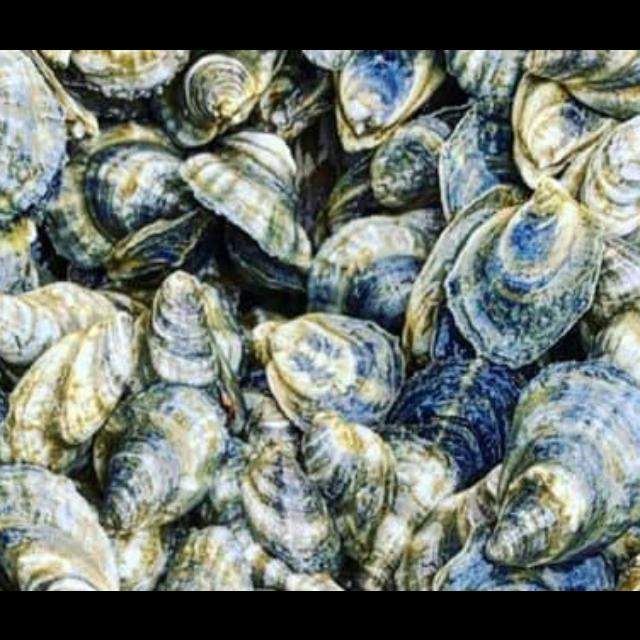Oyster-Closed: (356, 353, 534, 590), (486, 360, 640, 566), (444, 174, 605, 365), (40, 119, 199, 268), (193, 436, 344, 590), (402, 186, 515, 358), (101, 382, 228, 530), (182, 131, 314, 271), (267, 312, 406, 435), (0, 463, 121, 590), (306, 214, 428, 336), (305, 413, 398, 562), (150, 49, 289, 147), (394, 463, 501, 590), (433, 518, 617, 590), (513, 70, 621, 190), (242, 442, 344, 568), (438, 95, 534, 227), (2, 331, 94, 466), (0, 49, 68, 226), (337, 49, 448, 152), (0, 281, 118, 365), (79, 484, 172, 590), (57, 316, 133, 444), (108, 205, 214, 285), (150, 268, 219, 386), (526, 49, 640, 116), (369, 116, 452, 207), (581, 116, 640, 240), (58, 49, 193, 97), (329, 151, 407, 233), (159, 526, 256, 590), (224, 219, 306, 293), (199, 276, 250, 384), (246, 397, 309, 473), (445, 49, 529, 97)
